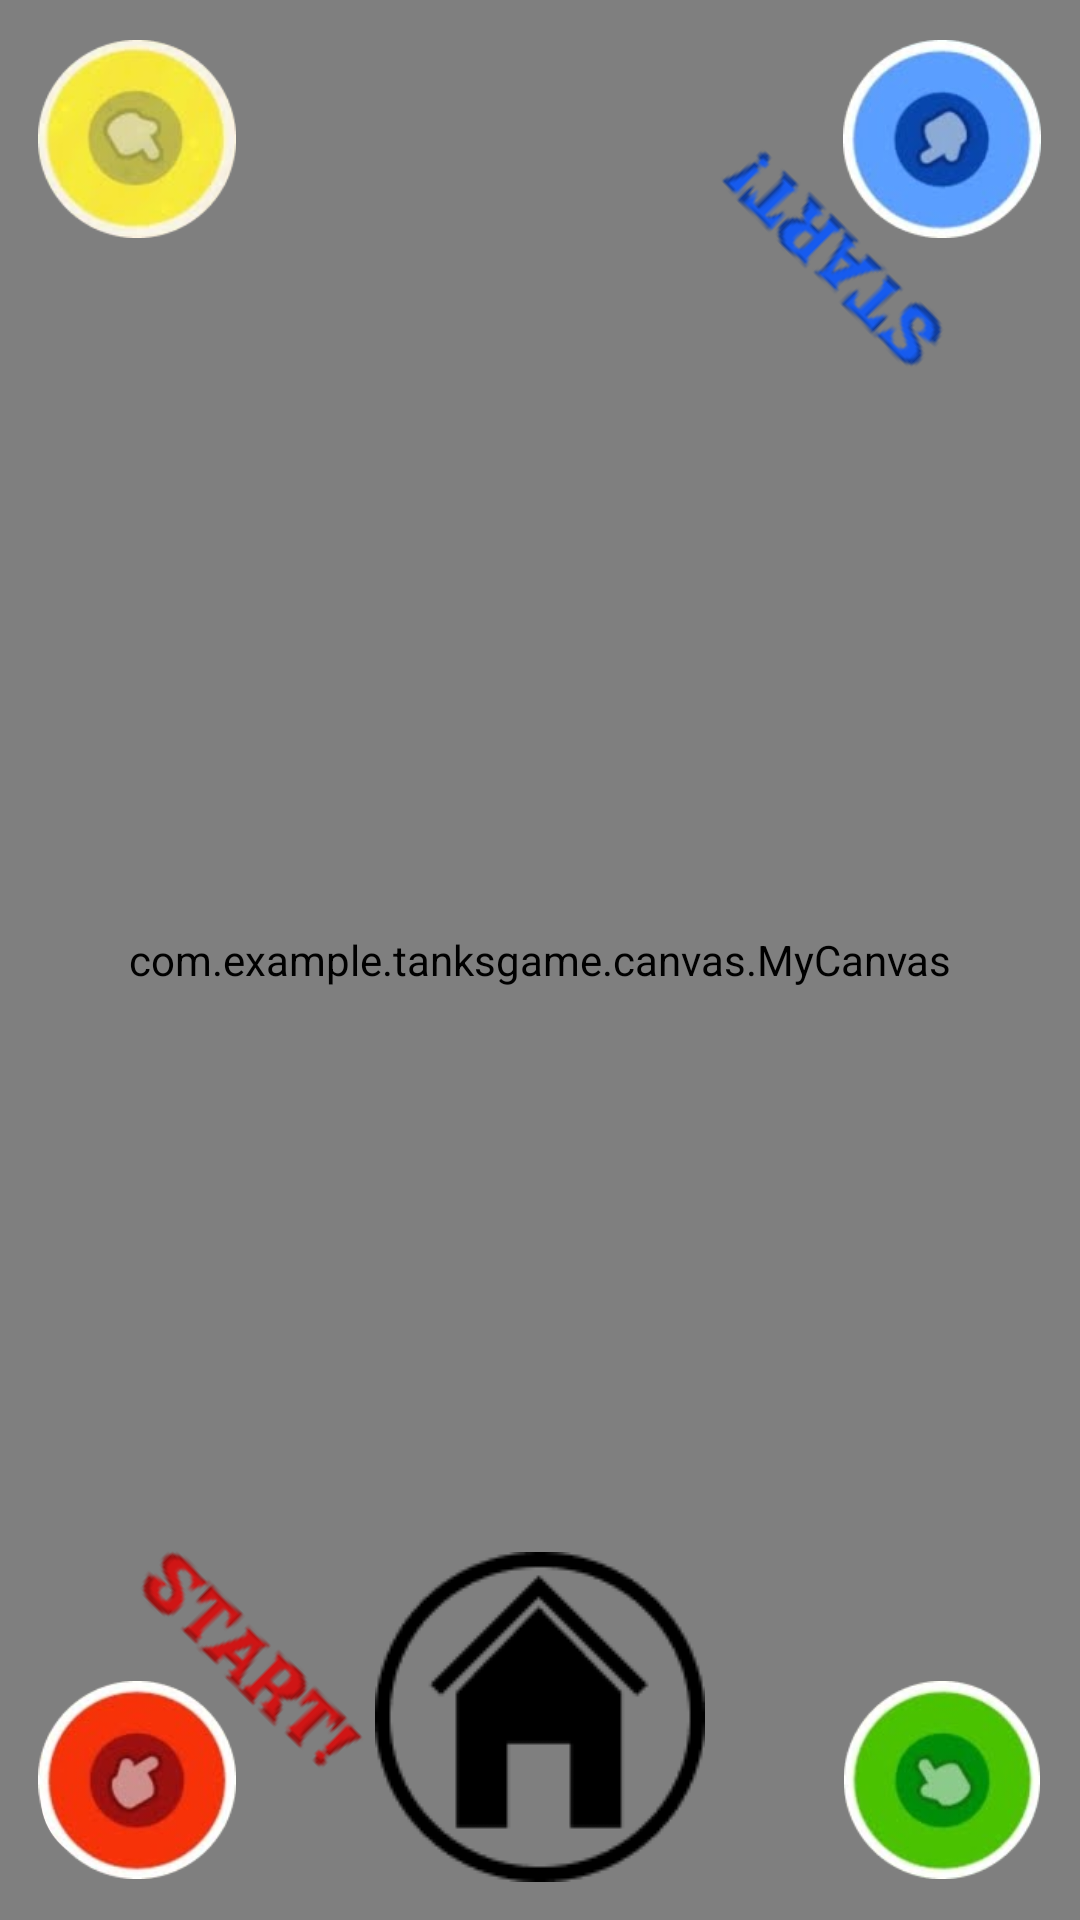

Screen size 1080w x 1920h. Icon name, then its box in pixels as (x1, y1, x2, y2):
home: (375, 1552, 705, 1882)
